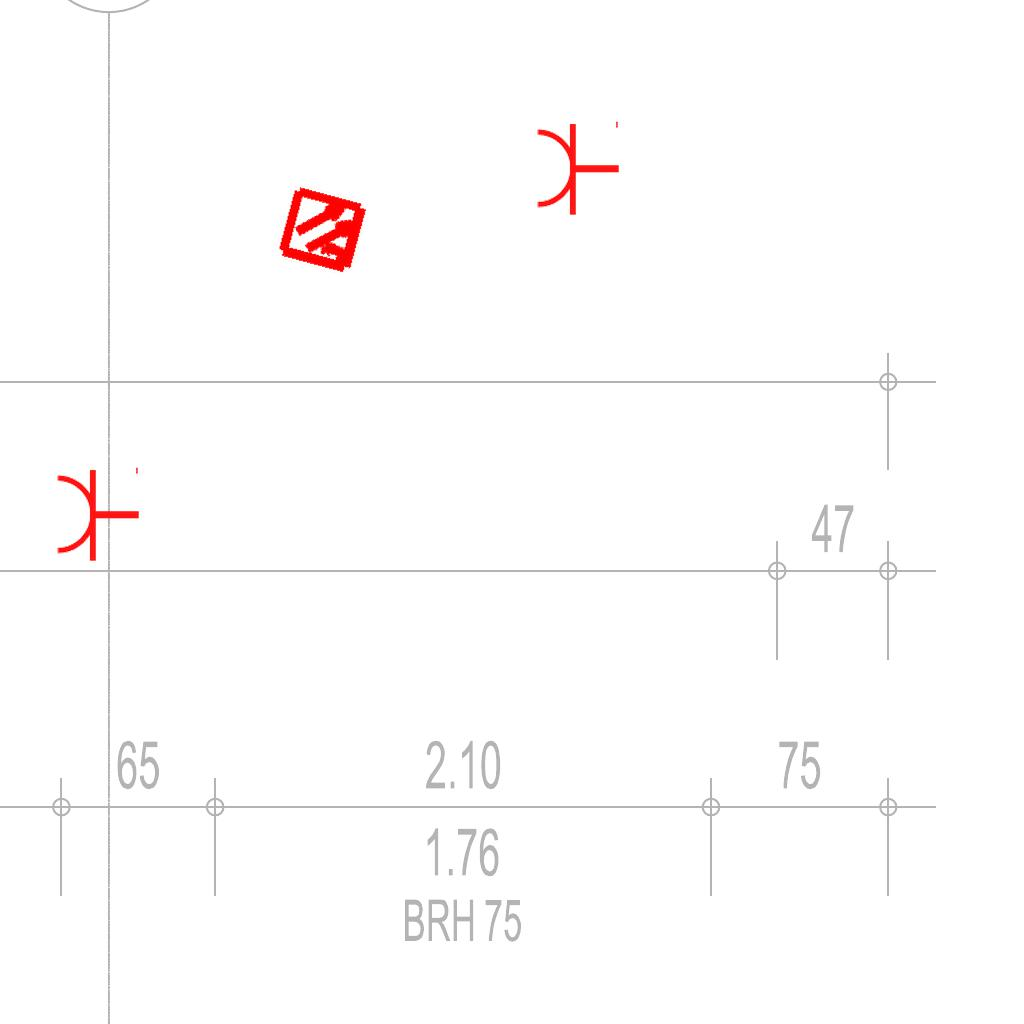OT_Multisensormelder_(Kombination_RMO_WMD): (255, 161, 394, 300)
Schukosteckdose_einfach: (534, 117, 621, 217), (54, 463, 141, 563)
